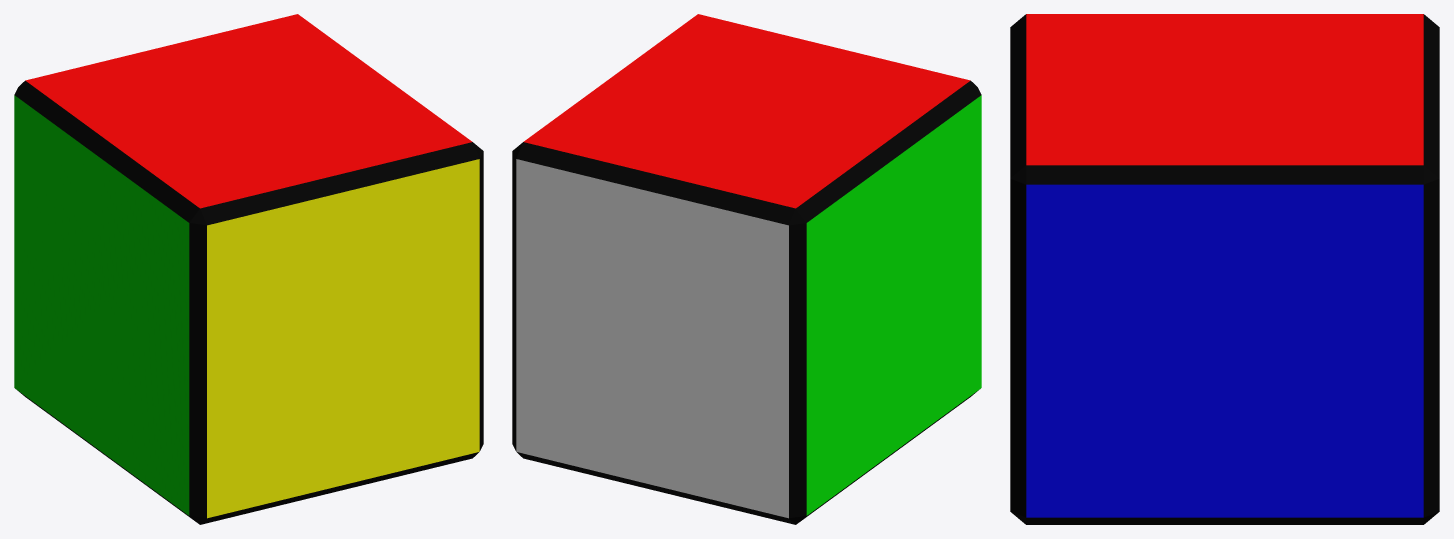
3 views of the same model, side by side, from view 1: azimuth 30°, elevation 25°; view 2: azimuth 150°, elevation 25°; view 3: azimuth 270°, elevation 25° (orthographic). The views are drawn at different scales.
Visible parts, largest first — view 1: Cube; view 2: Cube; view 3: Cube.
Part boxes in pixels (x1=…): Cube: x1=14, y1=14, x2=483, y2=524; Cube: x1=512, y1=14, x2=981, y2=524; Cube: x1=1010, y1=14, x2=1439, y2=524.
Bounding box in the file's own units: 198 × 203 × 220.
